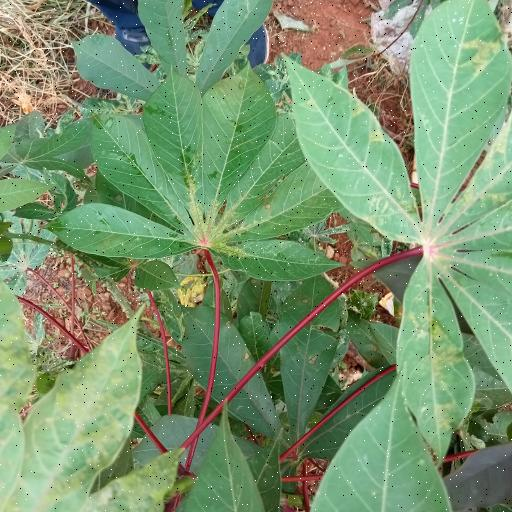Cassava_Healthy: (283, 0, 512, 447), (54, 61, 344, 282)
